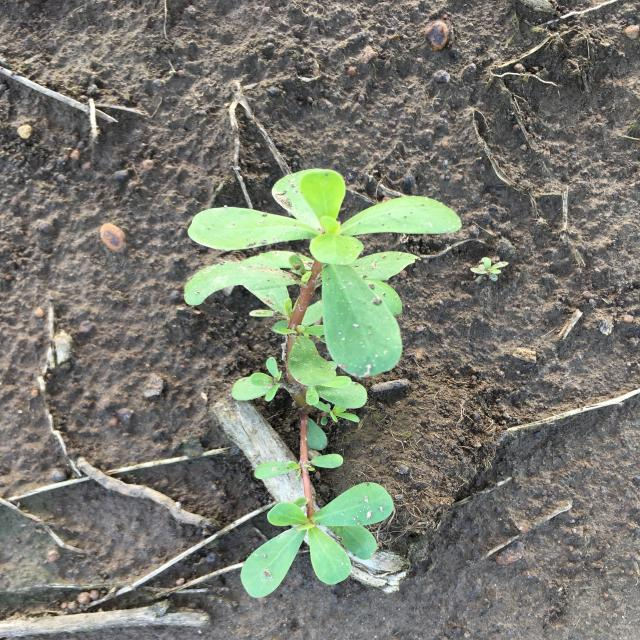Purslane: (184, 168, 462, 598), (471, 258, 508, 284)
